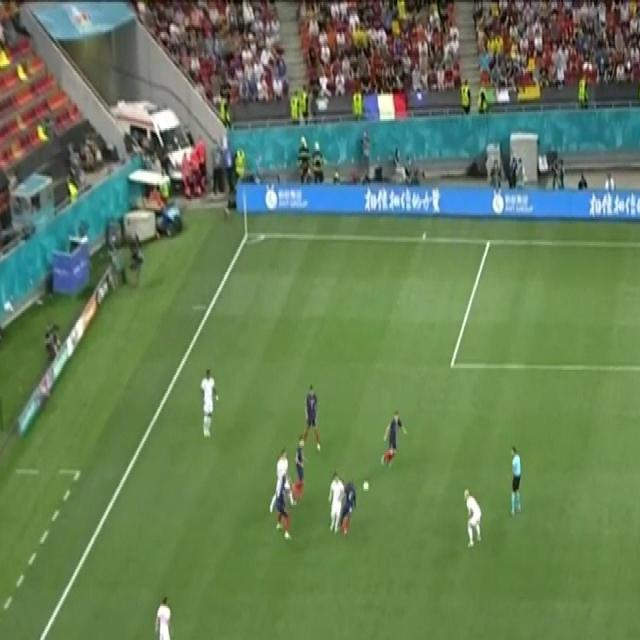ball: (362, 479, 370, 493)
player-white: (269, 446, 297, 515), (199, 367, 221, 441), (381, 409, 407, 468), (301, 381, 321, 451), (463, 487, 482, 550), (338, 478, 358, 536), (327, 471, 345, 535), (276, 475, 292, 541), (508, 446, 522, 516), (153, 592, 173, 640), (292, 436, 306, 498)
